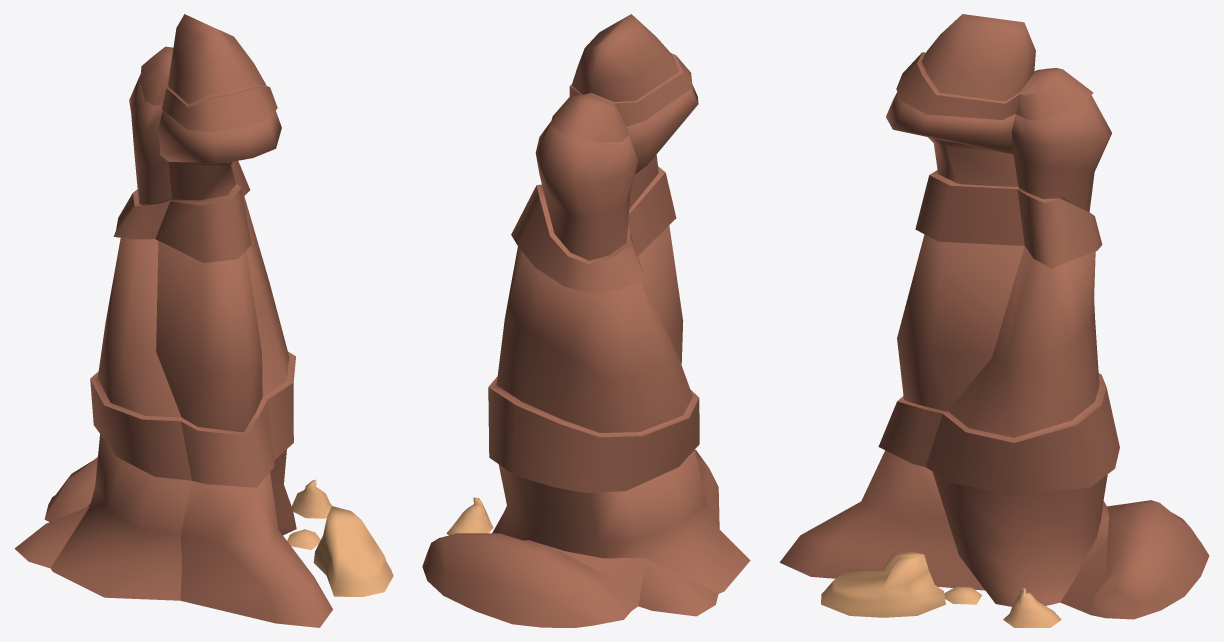
File: RockPillarNaturalA01.fbx
The picture shows the model from 3 angles, left to right: view 1: azimuth 30°, elevation 25°; view 2: azimuth 150°, elevation 25°; view 3: azimuth 270°, elevation 25°; orthographic projection. The views are drawn at different scales.
Visible parts, largest first — view 1: StoneSpireA1; view 2: StoneSpireA1; view 3: StoneSpireA1.
Part boxes in pixels (bbox=[...]): StoneSpireA1: bbox=[14, 14, 393, 627]; StoneSpireA1: bbox=[422, 14, 750, 627]; StoneSpireA1: bbox=[779, 14, 1209, 627].
Bounding box in the file's own units: 258 × 468 × 336.
